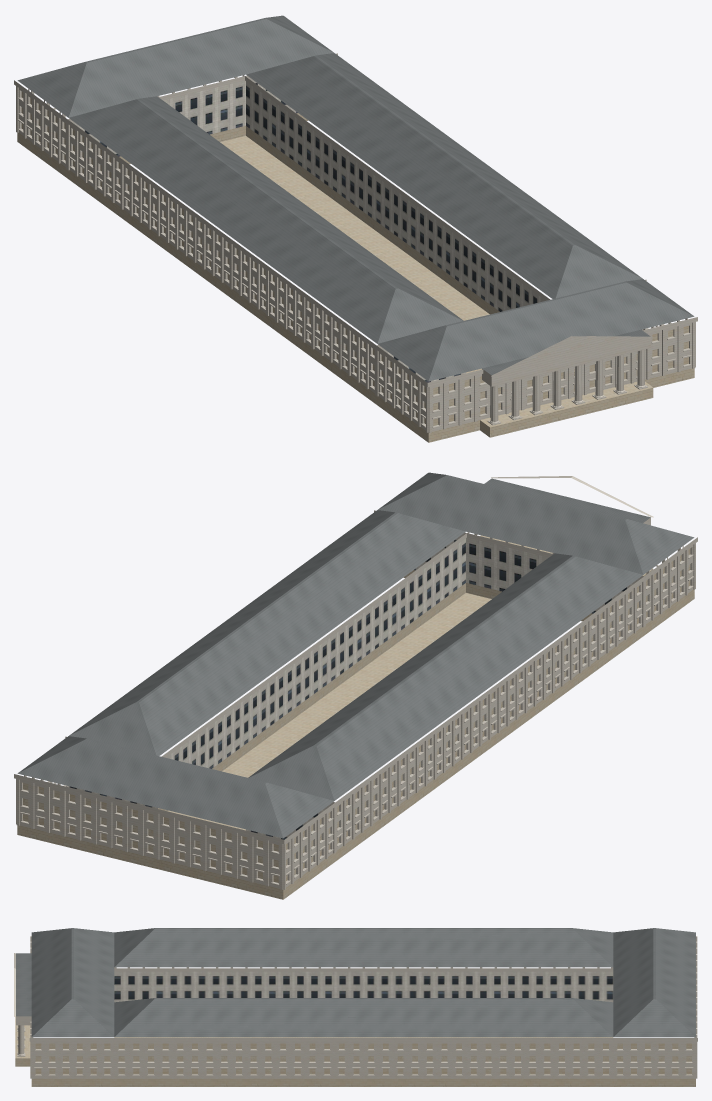
The model's file is dar_hall.glb.
3 views of the same model, one above another, from view 1: azimuth 30°, elevation 25°; view 2: azimuth 150°, elevation 25°; view 3: azimuth 270°, elevation 25° (orthographic). The views are drawn at different scales.
Visible parts, largest first — view 1: dar_hall; view 2: dar_hall; view 3: dar_hall.
Boxes of the visible parts, x1,y1,x2,y2 form: dar_hall: (14, 15, 697, 442); dar_hall: (14, 472, 697, 899); dar_hall: (14, 928, 697, 1086).
Bounding box in the file's own units: 64.5 × 20 × 175.
Materials: 4 (4 with a texture image).
